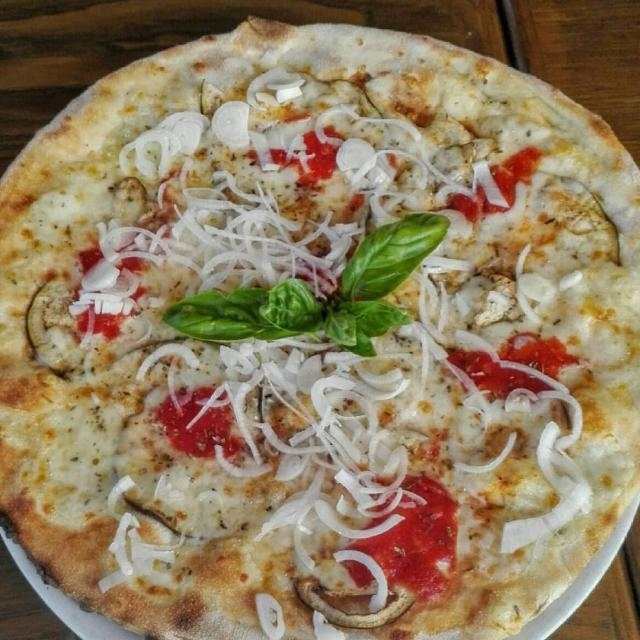basil: (342, 213, 451, 307), (159, 287, 266, 343), (225, 288, 315, 341), (256, 277, 328, 334), (333, 296, 415, 338), (315, 310, 360, 350), (339, 334, 381, 358)
pizza: (0, 14, 640, 640)
